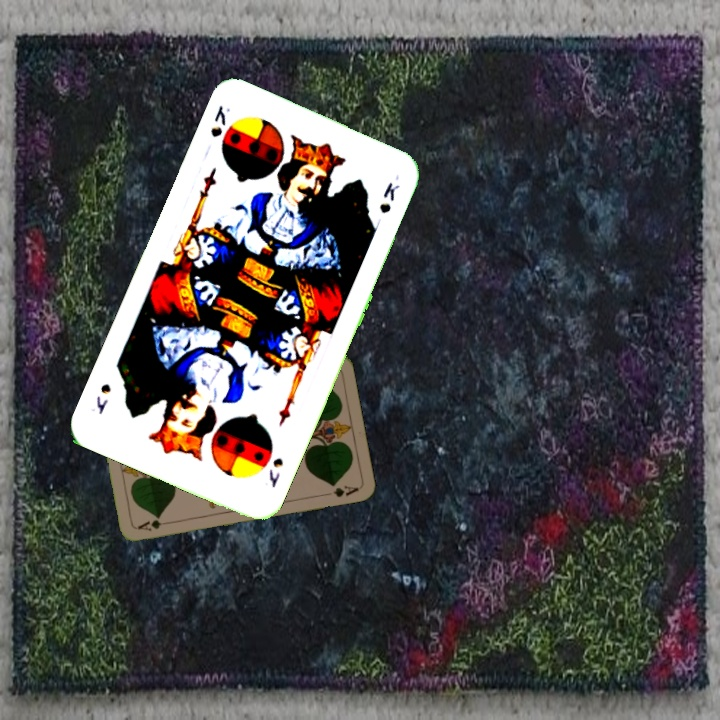GA: (134, 516, 175, 534)
SK: (206, 101, 233, 140), (264, 453, 286, 491)
